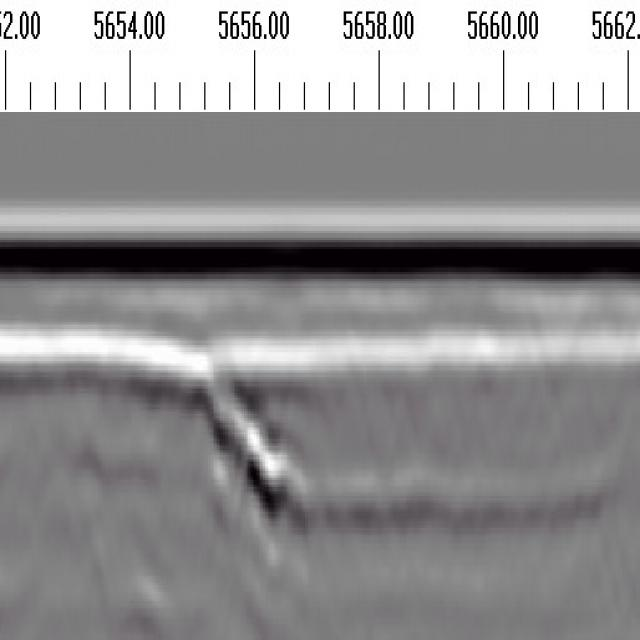loose: (197, 356, 318, 541)
